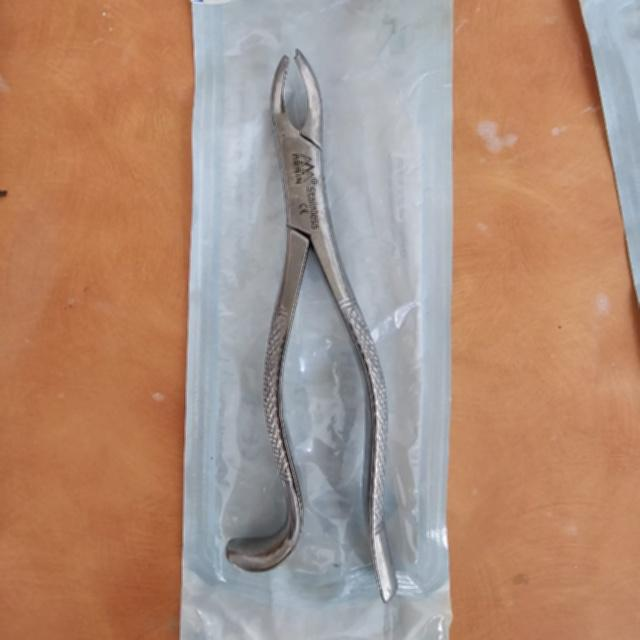forceps: (225, 49, 397, 604)
